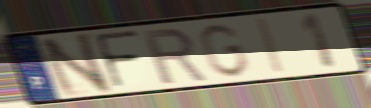1: (300, 11, 337, 72)
F: (91, 29, 142, 91)
G: (197, 21, 252, 79)
I: (255, 16, 288, 76)
N: (36, 30, 115, 99)
R: (140, 26, 210, 87)
